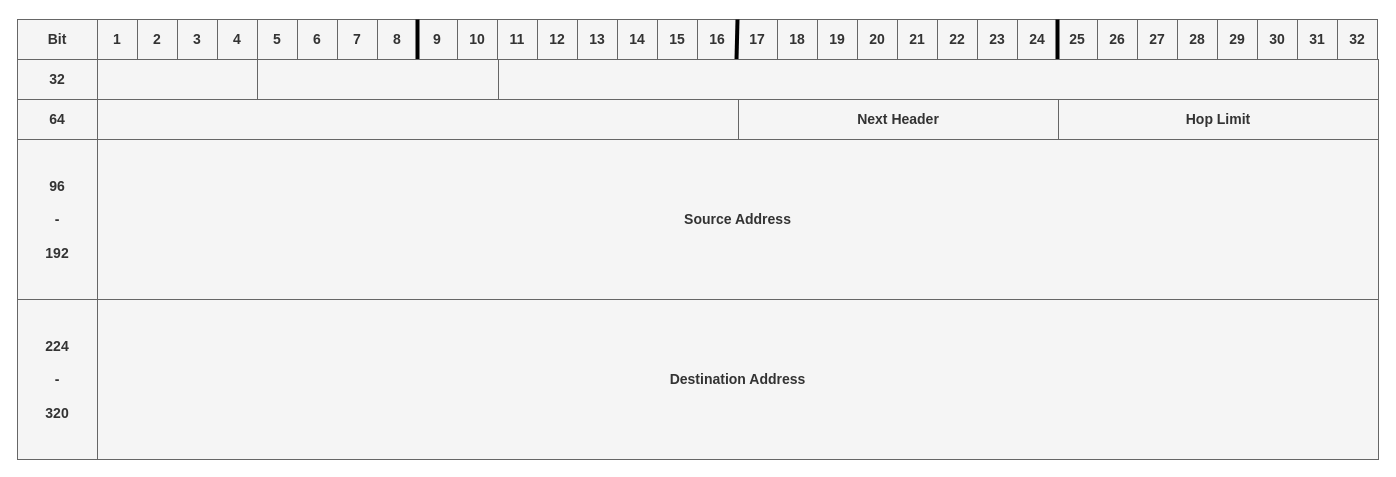
Some shapes in this 1396 by 477 pixel diagram are drawn without their labels. Here are the shapes that lost their labels. From the top down, the box of each, then its label:
(96, 58, 258, 100): Version
(256, 58, 498, 100): Traffic Class
(498, 58, 1378, 100): Flow Label
(96, 98, 738, 140): Payload Length (max. 64 kByte)
